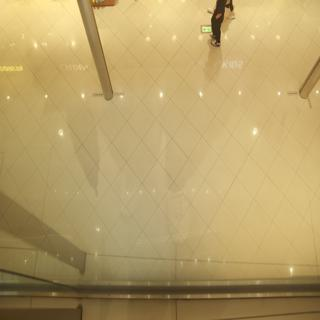person: (200, 1, 240, 54)
